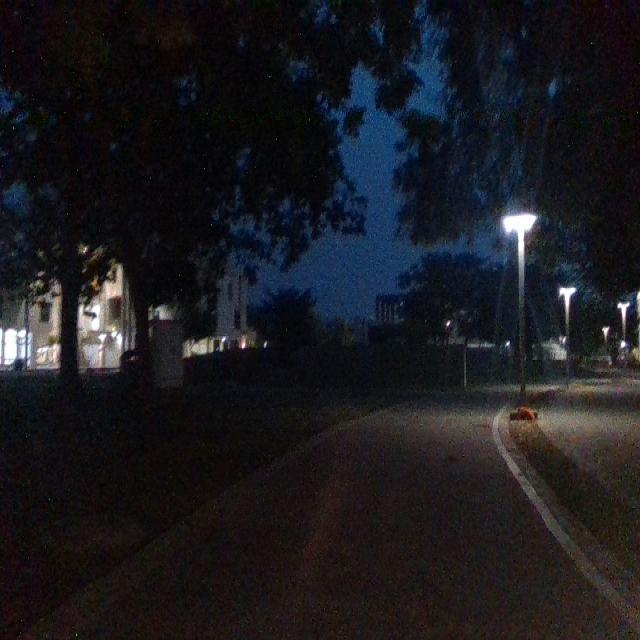lane: (79, 385, 639, 639)
